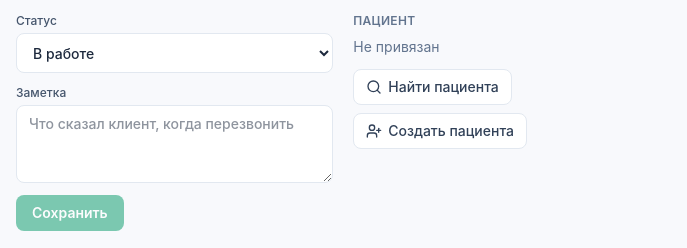
it: lead details › patient, not linked › says when nobody has this phone
Click the button "Найти пациента" at {"x": 433, "y": 87}, box [353,69,512,105]
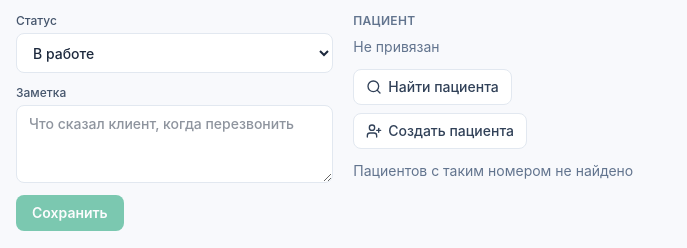
Expected: the text "Пациентов с таким номером не найдено" is shown, [353,161,671,181]
